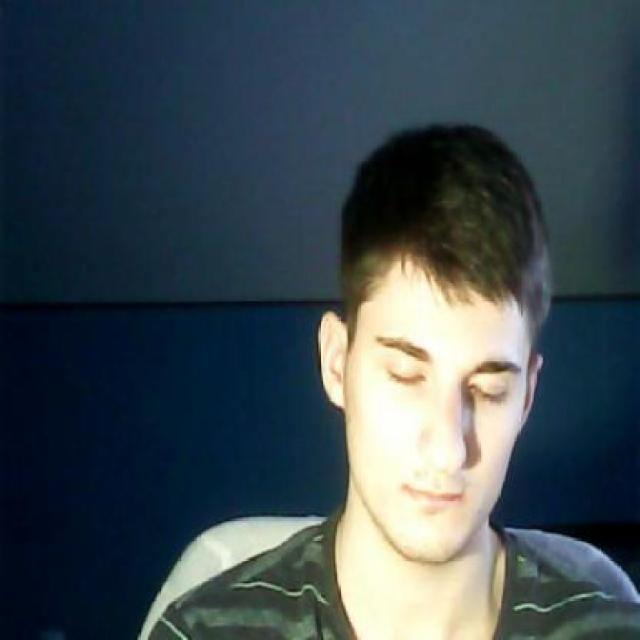drowsy: (388, 364, 424, 391), (472, 382, 506, 406)
